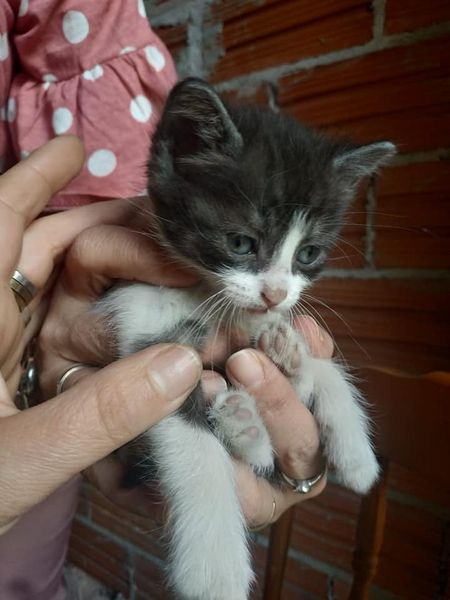cat: (89, 70, 410, 585)
